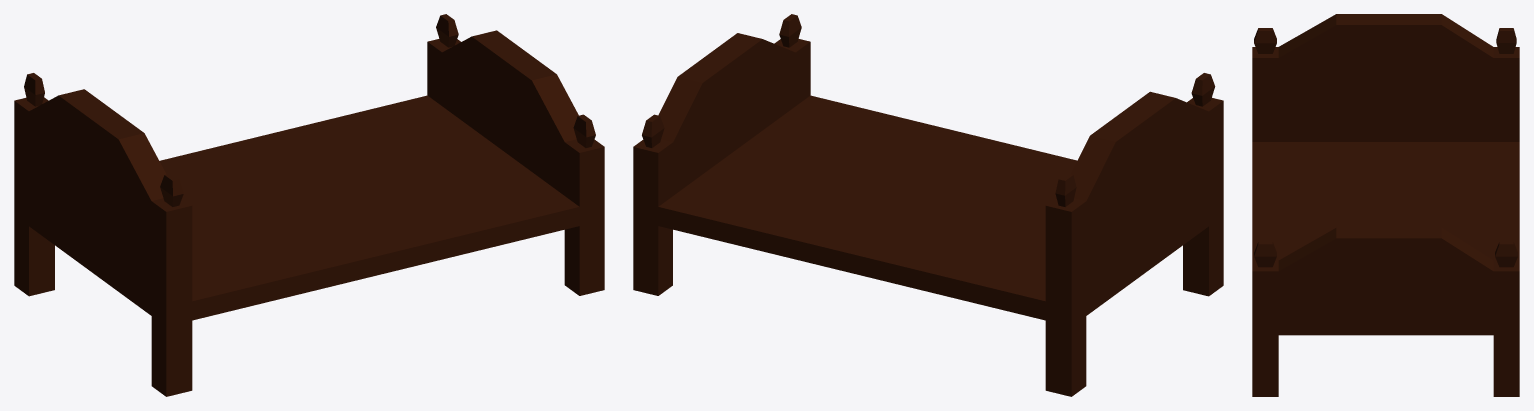
The model's file is Bed.fbx.
3 renders of one model, left to right at view 1: azimuth 30°, elevation 25°; view 2: azimuth 150°, elevation 25°; view 3: azimuth 270°, elevation 25°, orthographic. The views are drawn at different scales.
Visible parts, largest first — view 1: Krovatt; view 2: Krovatt; view 3: Krovatt.
Boxes of the visible parts, x1=… form: Krovatt: x1=14, y1=14, x2=604, y2=396; Krovatt: x1=633, y1=14, x2=1223, y2=396; Krovatt: x1=1252, y1=14, x2=1519, y2=396.
Size of the model in its own units: 200 by 161 by 333.
